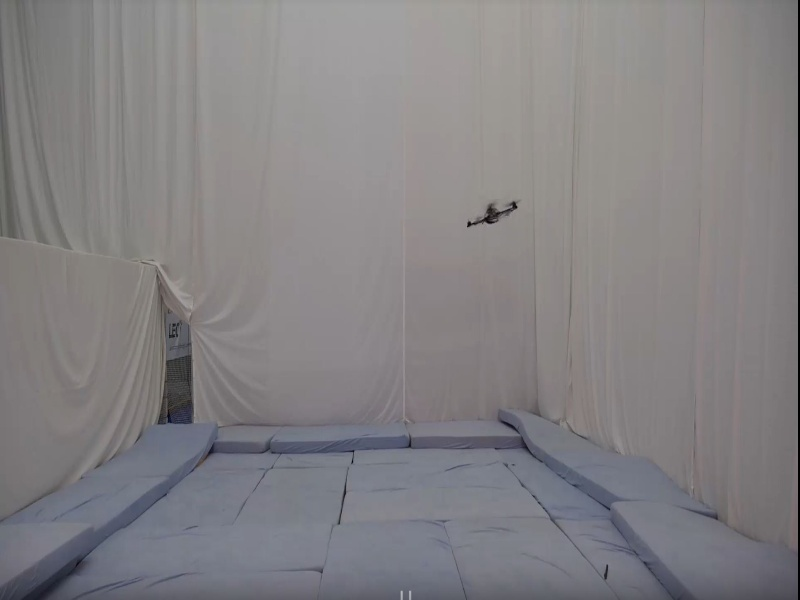drone: (462, 197, 523, 229)
